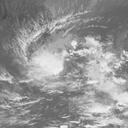cyclone: (32, 47, 96, 105)
